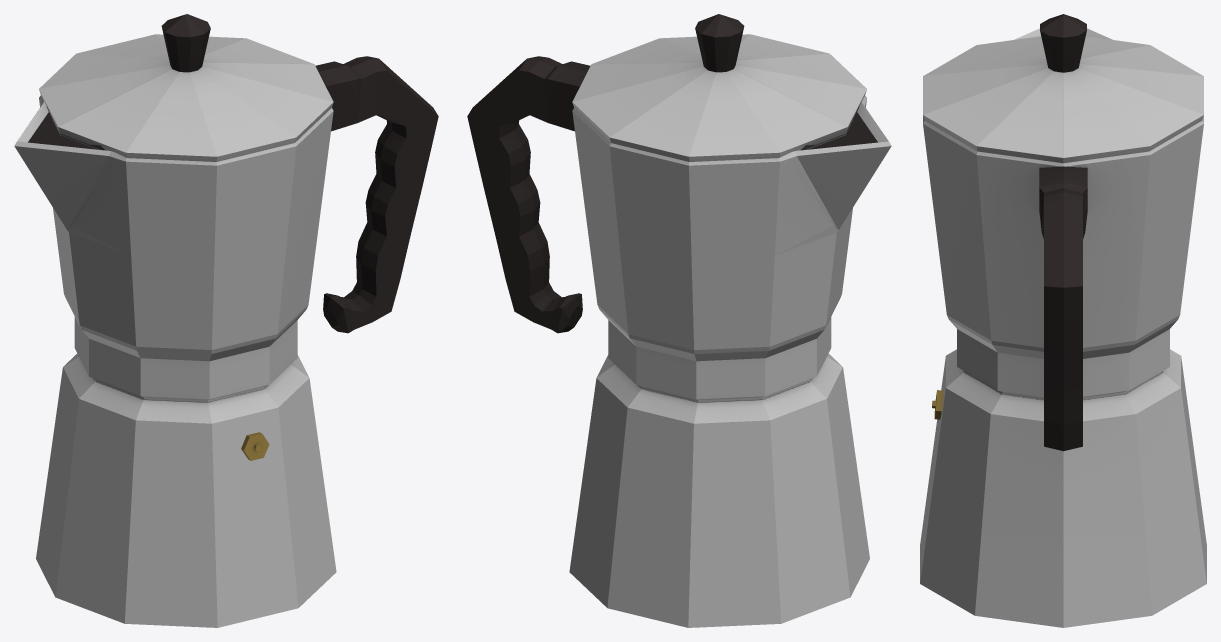
The model's file is 806fa714-1327-4207-81e1-cae06b2516e1.glb.
The picture shows the model from 3 angles, left to right: view 1: azimuth 30°, elevation 25°; view 2: azimuth 150°, elevation 25°; view 3: azimuth 270°, elevation 25°; orthographic projection.
Visible parts, largest first — view 1: ExpressoPot_mesh; view 2: ExpressoPot_mesh; view 3: ExpressoPot_mesh.
Boxes of the visible parts, box(x1,y1,x2,y2) form: ExpressoPot_mesh: box(14, 14, 438, 627); ExpressoPot_mesh: box(467, 14, 891, 627); ExpressoPot_mesh: box(920, 14, 1206, 627).
Bounding box in the file's own units: 6.2 × 7.79 × 3.68.
1 material, 1 textured.
